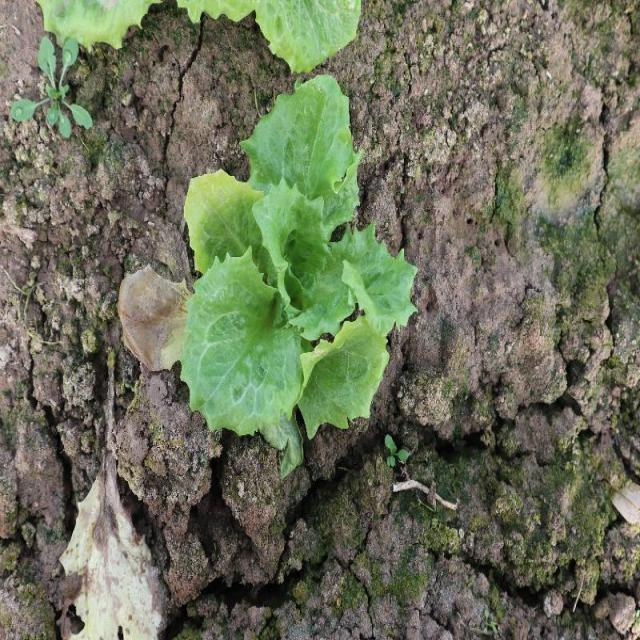crop: (184, 68, 417, 461)
